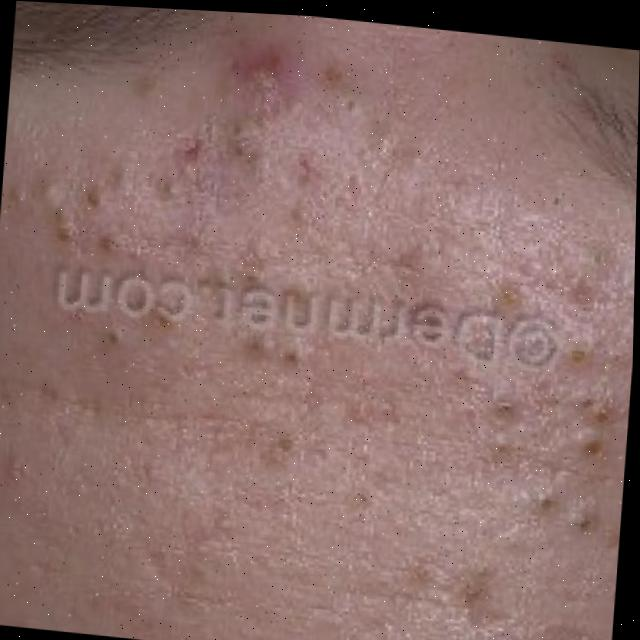Acne: (54, 3, 447, 394)
